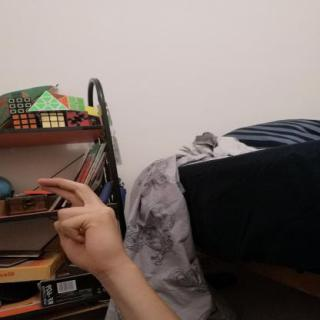ZAY: (30, 172, 133, 276)
